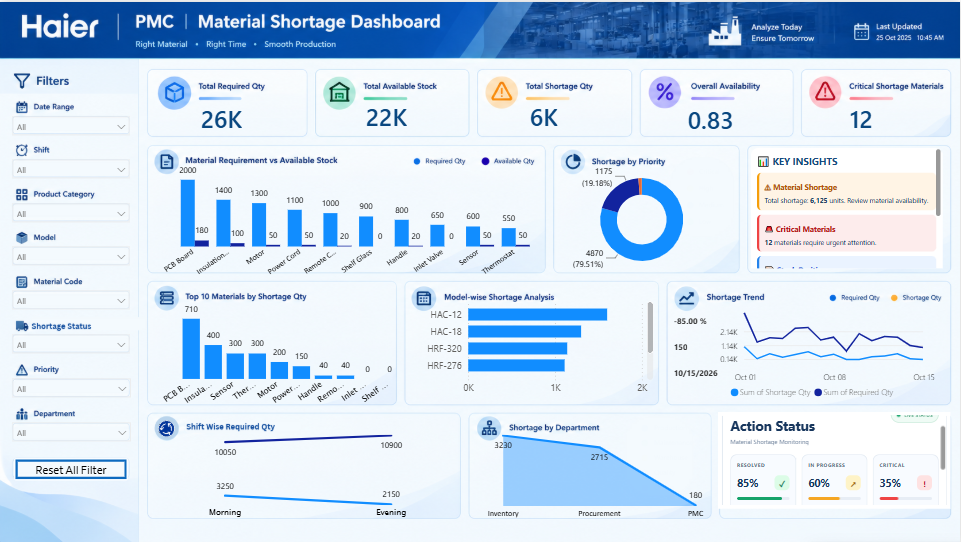

The dashboard page shown, as its layout file describes it:
{"tool":"powerbi","page":{"name":"Page 1","canvas":[1280,720],"ordinal":0},"visuals":[{"type":"cardVisual","fields":{"Data":["Material Data.Total Recived Qty"]},"box":[239,89,163.8,130],"z":0},{"type":"cardVisual","fields":{"Data":["Material Data.Total Available Stock"]},"box":[459,86,164,130],"z":1000},{"type":"cardVisual","fields":{"Data":["Material Data.Total Shortage Qty"]},"box":[677,86,164,130],"z":2000},{"type":"cardVisual","fields":{"Data":["Material Data.Overall Availability"]},"box":[888,90,164,130],"z":3000},{"type":"cardVisual","fields":{"Data":["Material Data.Critical Shortage Materials"]},"box":[1104,90,163.8,129.8],"z":4000},{"type":"lineClusteredColumnComboChart","fields":{"Category":["Material Data.Material Name"],"Y":["Sum(Material Data.Required Qty)","Sum(Material Data.Reserved Qty)"]},"box":[200,200,531,175],"z":5000},{"type":"donutChart","fields":{"Category":["Material Data.Priority"],"Y":["Sum(Material Data.Shortage Qty)"]},"box":[737.8,210,236.7,158.9],"z":6000},{"type":"lineStackedColumnComboChart","fields":{"Category":["Material Data.Material Name"],"Y":["Sum(Material Data.Shortage Qty)"]},"box":[191.2,385,357.5,161.2],"z":7000},{"type":"clusteredBarChart","fields":{"Category":["Material Data.Model"],"Y":["Sum(Material Data.Shortage Qty)"]},"box":[533.8,386.2,342.5,155],"z":8000},{"type":"areaChart","fields":{"Category":["MaterialShortageData.Responsible Department"],"Y":["Sum(MaterialShortageData.Shortage Qty)"]},"box":[615,564,369,134],"z":9000},{"type":"tableEx","fields":{"Values":["Material Data.Shortage Status"]},"box":[1327.8,680,370,150],"z":10000},{"type":"powerKPI462CE5C2666F4EC8A8BDD7E5587320A3","fields":{"Axis":["Material Data.Date"],"Values":["Sum(Material Data.Shortage Qty)","Sum(Material Data.Required Qty)"]},"box":[892.9,406.4,387.1,135],"z":11000},{"type":"lineChart","fields":{"Category":["Material Data.Shift"],"Y":["Sum(Material Data.Required Qty)"],"Series":["Material Data.Shortage Status"]},"box":[191,563.9,424.5,136.8],"z":12000},{"type":"htmlContent443BE3AD55E043BF878BED274D3A6855","fields":{"content":["Material Data.PMC Key Insights HTML"]},"box":[996,189,265,171],"z":13000},{"type":"htmlContent443BE3AD55E043BF878BED274D3A6855","fields":{"content":["Material Data.Action Status HTML"]},"box":[957.8,546.7,310,128.9],"z":14000},{"type":"slicer","fields":{"Values":["Material Data.Date"]},"box":[7.2,142,176.4,39.2],"z":15000},{"type":"slicer","fields":{"Values":["Material Data.Shift"]},"box":[7.2,199.6,176.4,39.2],"z":16000},{"type":"slicer","fields":{"Values":["Material Data.Product Category"]},"box":[7.2,258,176.4,38.8],"z":17000},{"type":"slicer","fields":{"Values":["Material Data.Model"]},"box":[7.2,315.6,176.4,38.8],"z":18000},{"type":"slicer","fields":{"Values":["Material Data.Material Code"]},"box":[7.2,375.2,176.4,39.2],"z":19000},{"type":"slicer","fields":{"Values":["Material Data.Shortage Status"]},"box":[7.2,433.2,176.4,38.4],"z":20000},{"type":"slicer","fields":{"Values":["Material Data.Priority"]},"box":[6,492,177.6,38.4],"z":21000},{"type":"slicer","fields":{"Values":["Material Data.Responsible Department"]},"box":[6,550.4,177.6,38.4],"z":22000},{"type":"actionButton","title":"Reset All","box":[19.2,608.5,152.3,30],"z":24000}]}

Visuals, with their boxes in screenshot pixels (x1, y1, x2, y2), scaled from the page's 1280x720 canvas onto the 961x542 screenshot:
cardVisual - Material Data.Total Recived Qty: [left=179, top=67, right=302, bottom=165]
cardVisual - Material Data.Total Available Stock: [left=345, top=65, right=468, bottom=163]
cardVisual - Material Data.Total Shortage Qty: [left=508, top=65, right=631, bottom=163]
cardVisual - Material Data.Overall Availability: [left=667, top=68, right=790, bottom=166]
cardVisual - Material Data.Critical Shortage Materials: [left=829, top=68, right=952, bottom=165]
lineClusteredColumnComboChart - Material Data.Material Name x Sum(Material Data.Required Qty): [left=150, top=151, right=549, bottom=282]
donutChart - Material Data.Priority x Sum(Material Data.Shortage Qty): [left=554, top=158, right=732, bottom=278]
lineStackedColumnComboChart - Material Data.Material Name x Sum(Material Data.Shortage Qty): [left=144, top=290, right=412, bottom=411]
clusteredBarChart - Material Data.Model x Sum(Material Data.Shortage Qty): [left=401, top=291, right=658, bottom=407]
areaChart - MaterialShortageData.Responsible Department x Sum(MaterialShortageData.Shortage Qty): [left=462, top=425, right=739, bottom=525]
powerKPI462CE5C2666F4EC8A8BDD7E5587320A3 - Material Data.Date x Sum(Material Data.Shortage Qty): [left=670, top=306, right=960, bottom=408]
lineChart - Material Data.Shift x Sum(Material Data.Required Qty): [left=143, top=424, right=462, bottom=527]
htmlContent443BE3AD55E043BF878BED274D3A6855 - Material Data.PMC Key Insights HTML: [left=748, top=142, right=947, bottom=271]
htmlContent443BE3AD55E043BF878BED274D3A6855 - Material Data.Action Status HTML: [left=719, top=412, right=952, bottom=509]
slicer - Material Data.Date: [left=5, top=107, right=138, bottom=136]
slicer - Material Data.Shift: [left=5, top=150, right=138, bottom=180]
slicer - Material Data.Product Category: [left=5, top=194, right=138, bottom=223]
slicer - Material Data.Model: [left=5, top=238, right=138, bottom=267]
slicer - Material Data.Material Code: [left=5, top=282, right=138, bottom=312]
slicer - Material Data.Shortage Status: [left=5, top=326, right=138, bottom=355]
slicer - Material Data.Priority: [left=5, top=370, right=138, bottom=399]
slicer - Material Data.Responsible Department: [left=5, top=414, right=138, bottom=443]
"Reset All" actionButton: [left=14, top=458, right=129, bottom=481]
